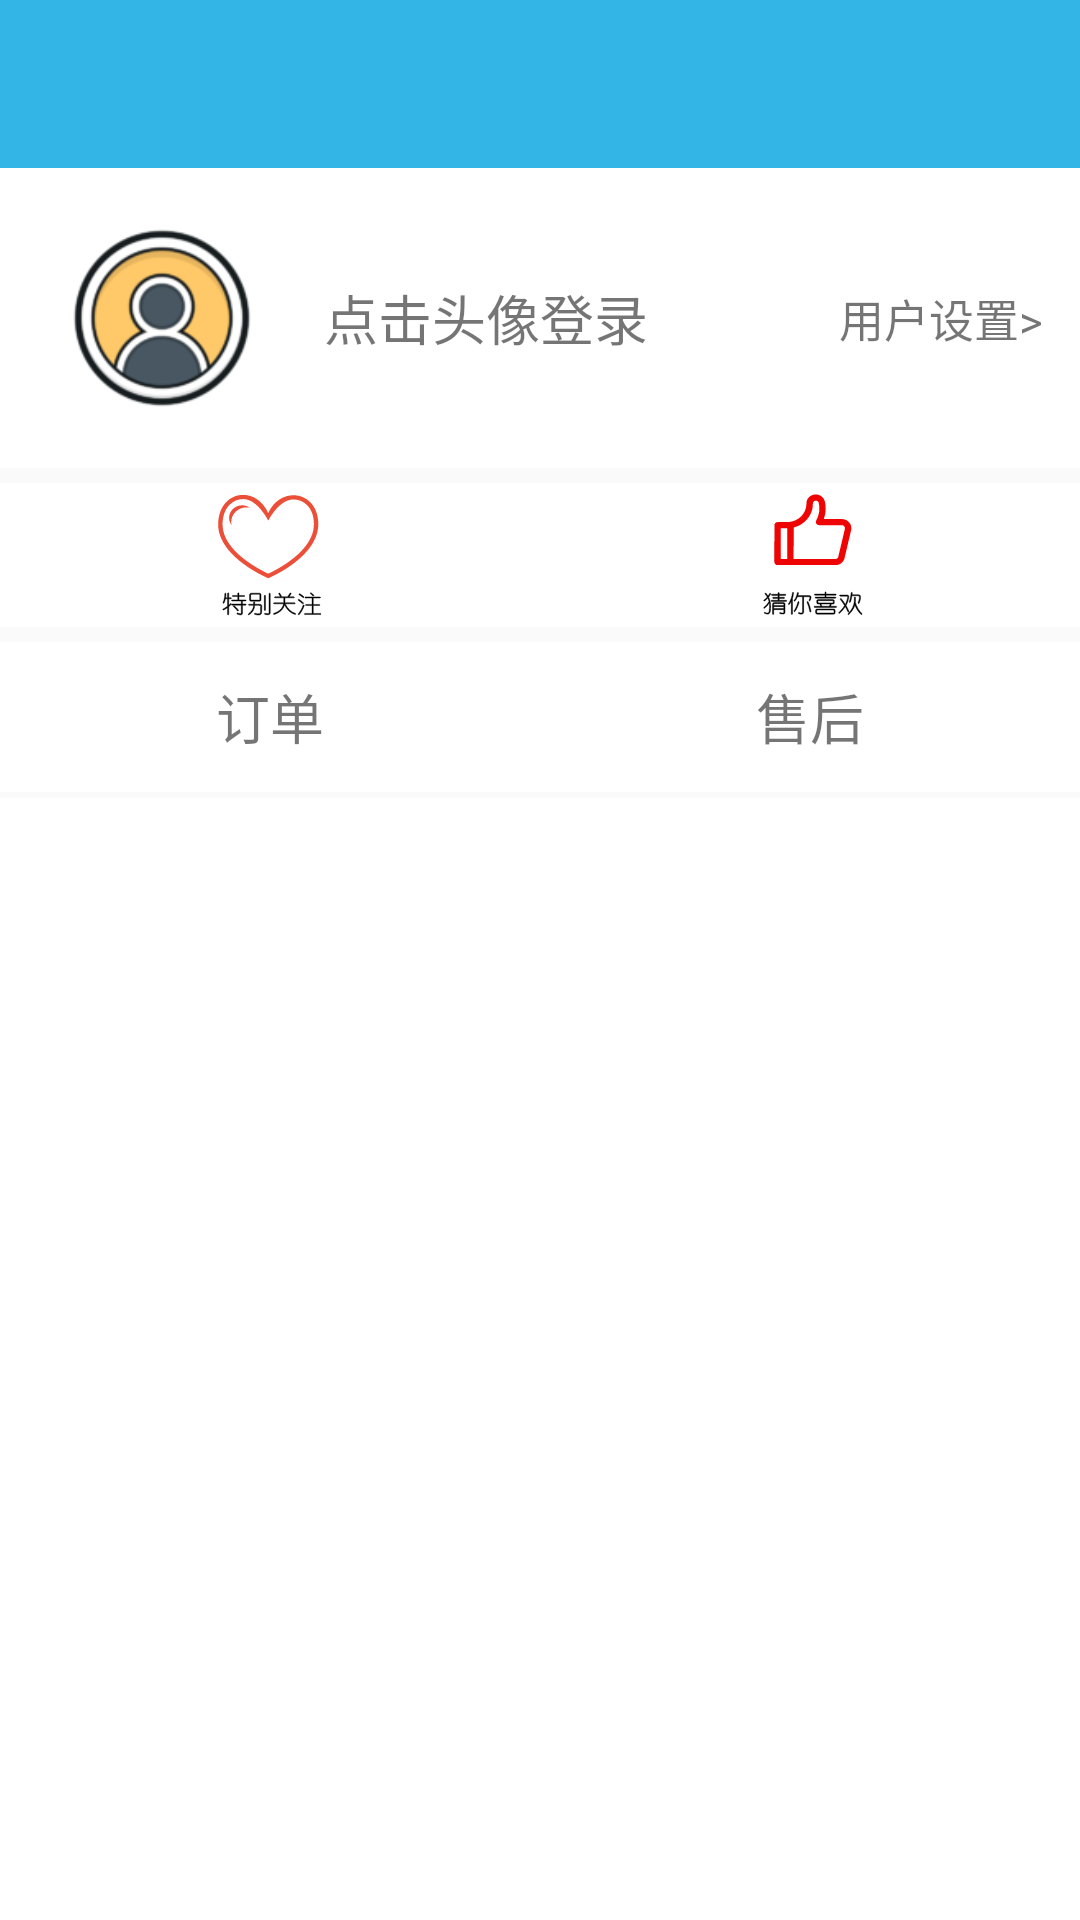

Screen size 1080x1920. Icon name, then its box in pixels as (x1, y1, x2, y2):
user login: (74, 230, 250, 406)
